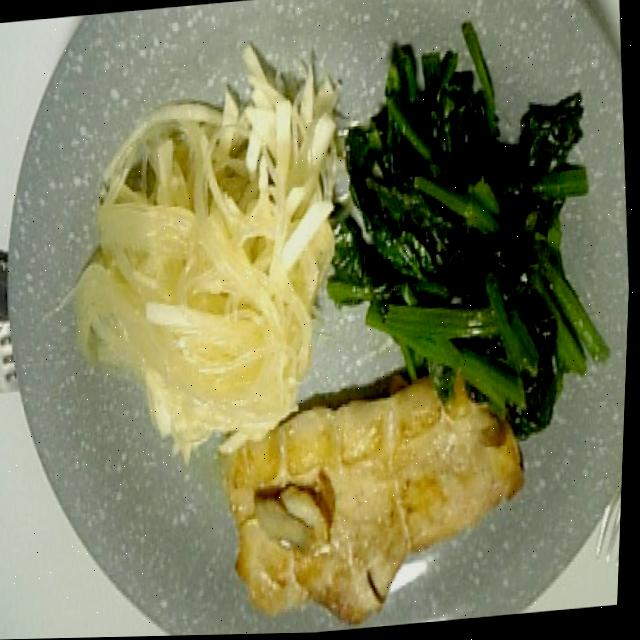蔬菜料理: (284, 0, 628, 498)
